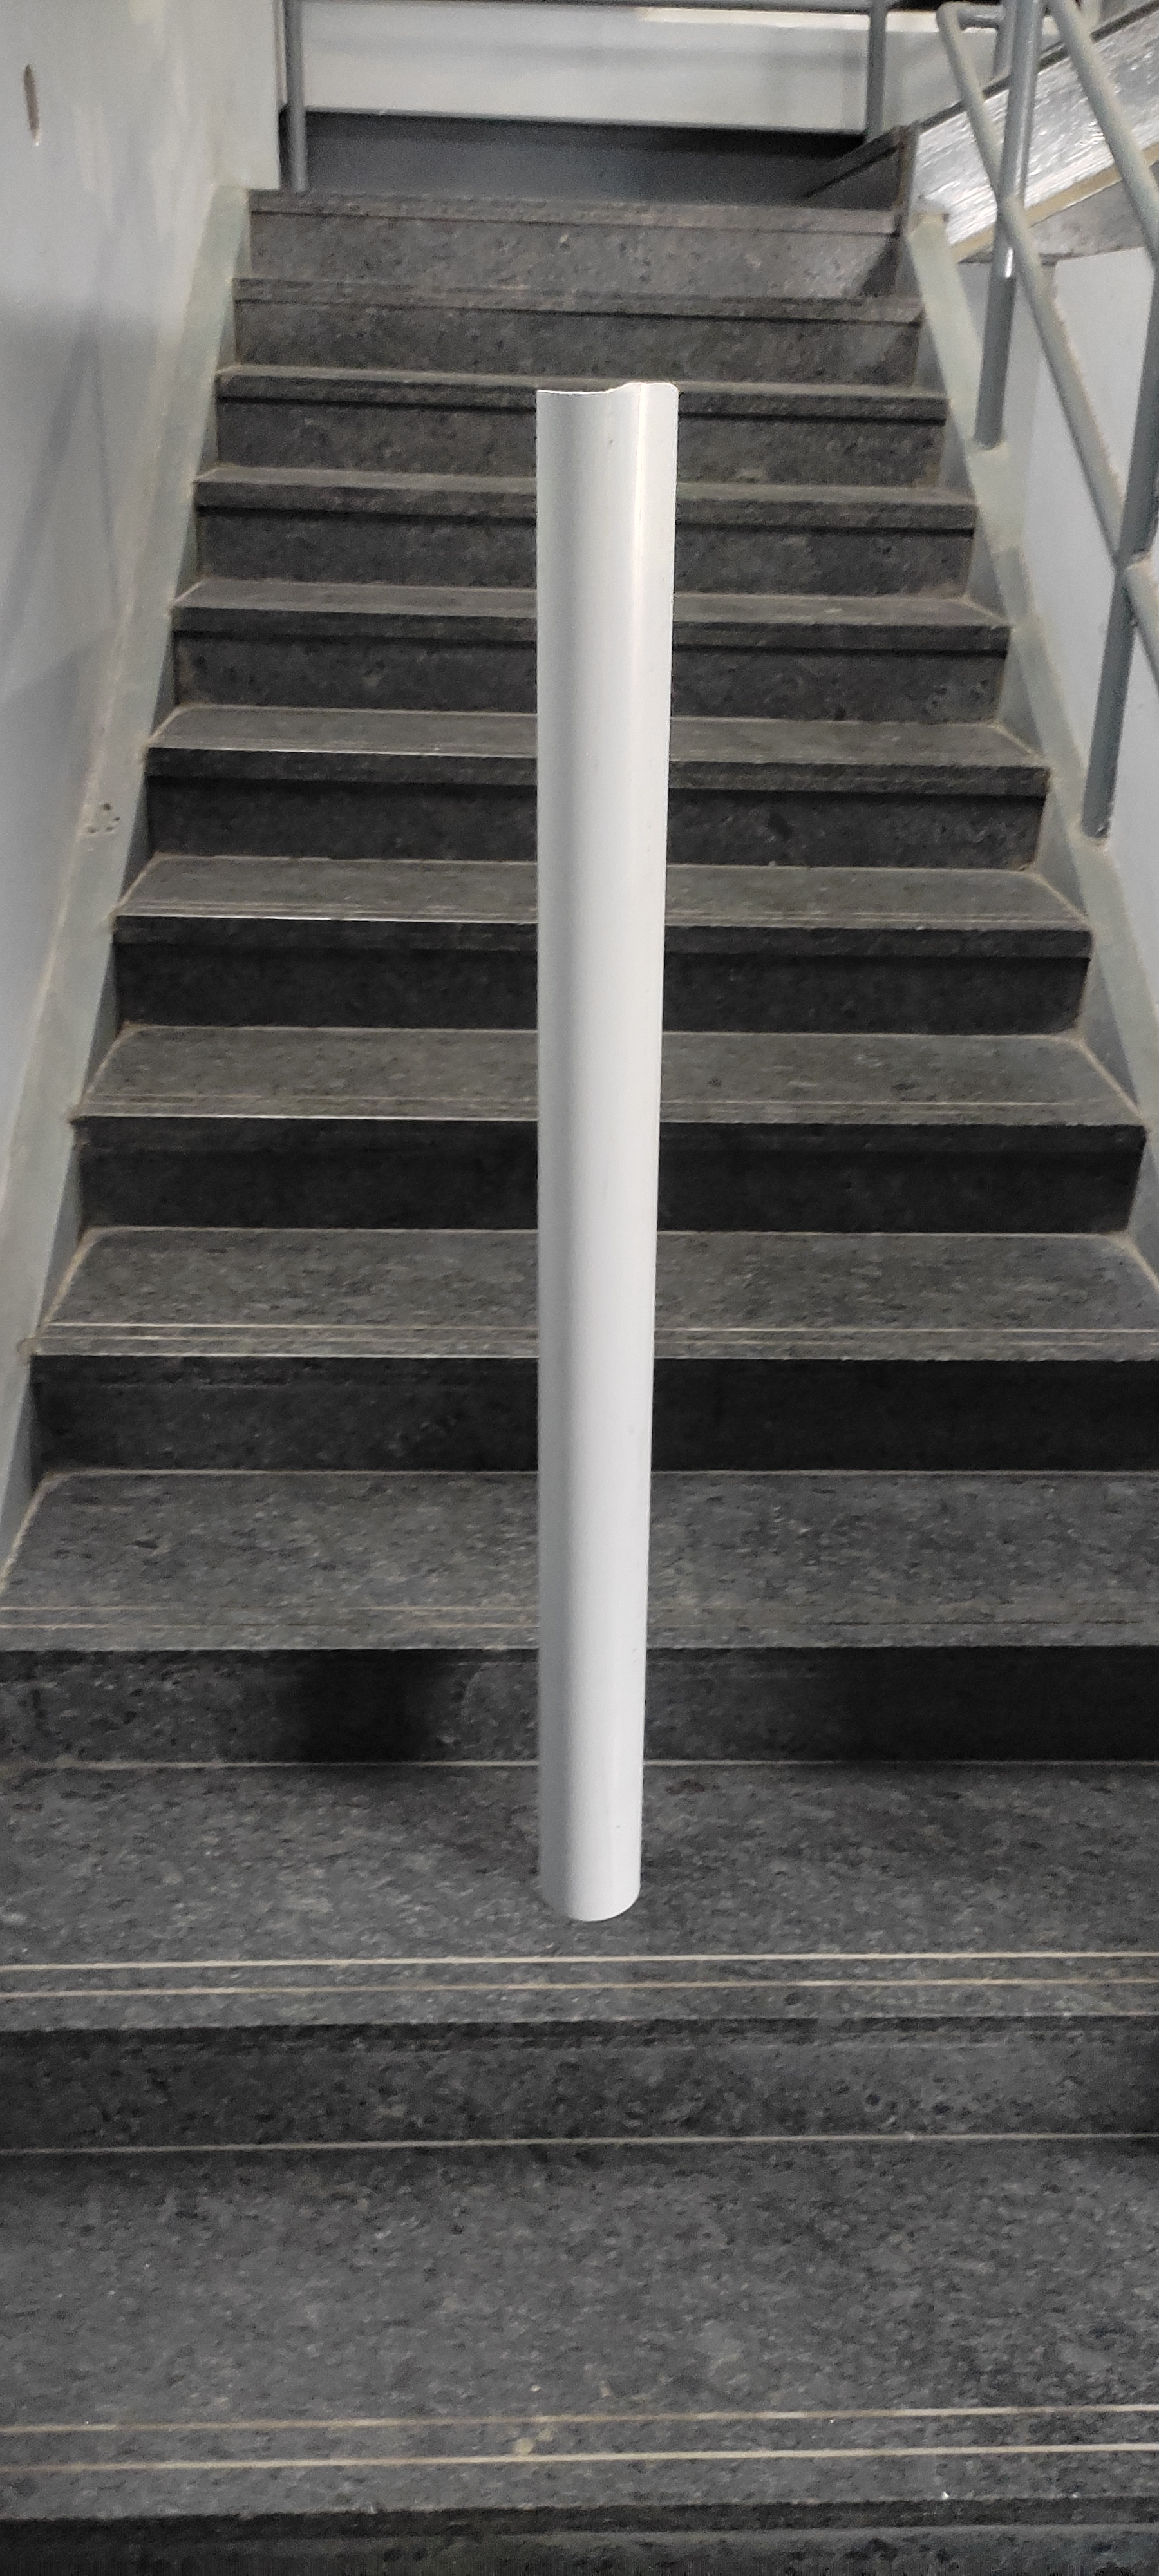pole: (511, 355, 691, 1930)
